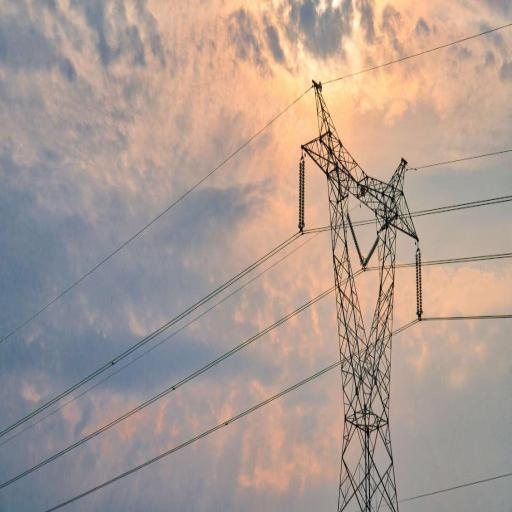wt_5: (297, 75, 426, 511)
